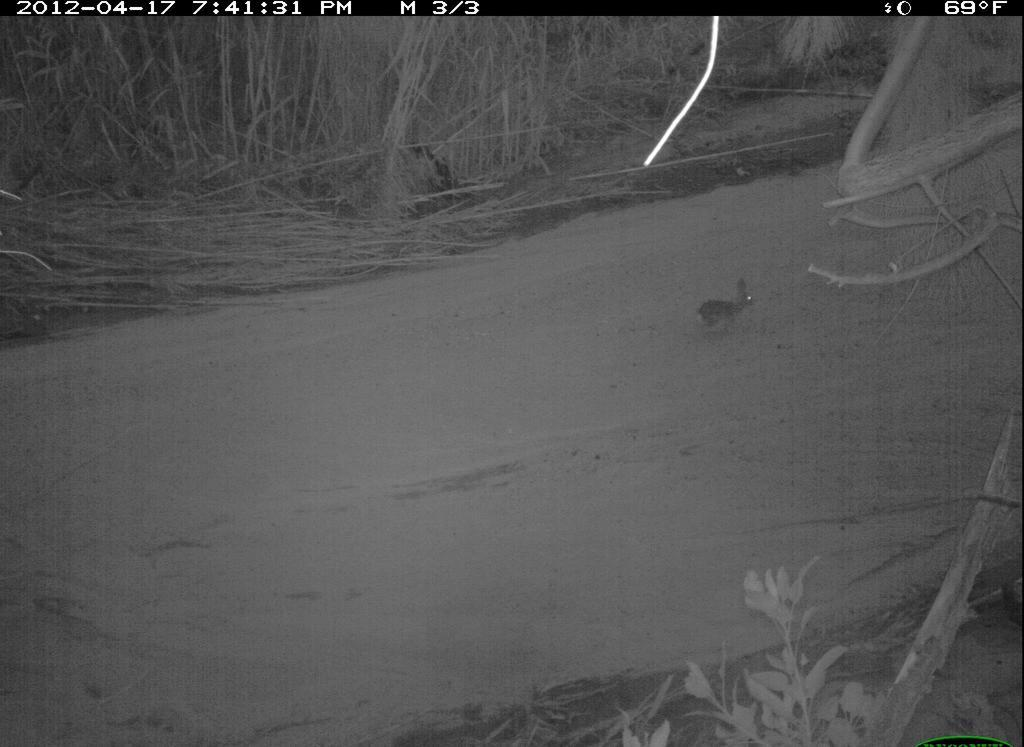rabbit: (689, 268, 765, 340)
